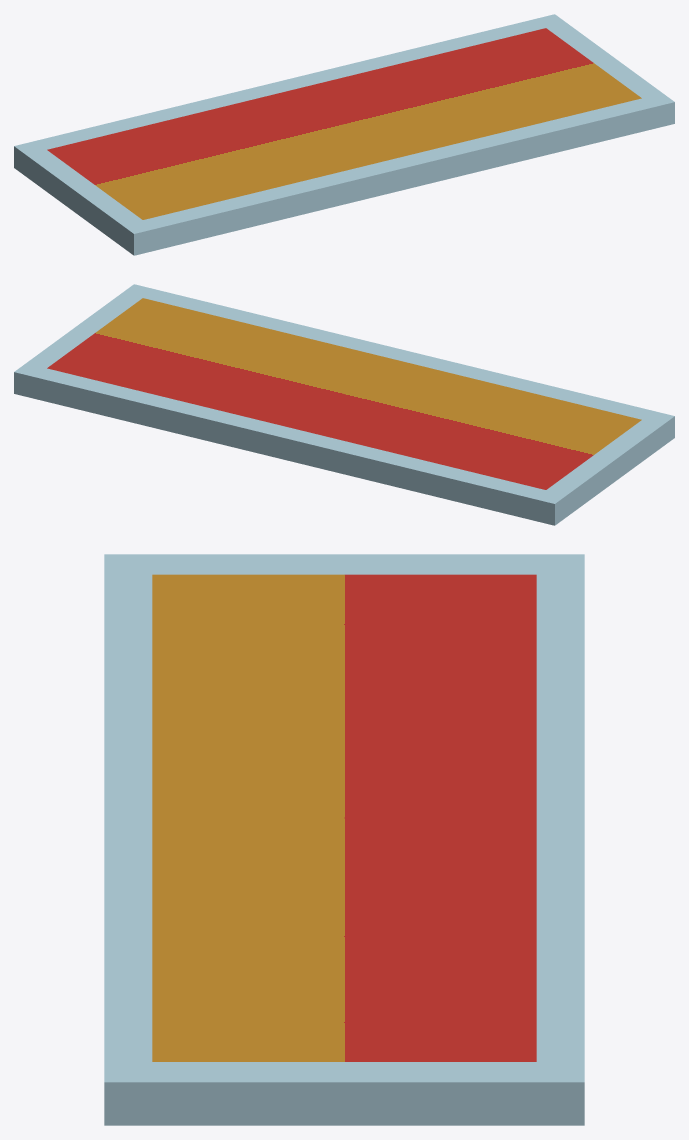
File: Speedboost 1.fbx
3 renders of one model, top to bottom at view 1: azimuth 30°, elevation 25°; view 2: azimuth 150°, elevation 25°; view 3: azimuth 270°, elevation 25°, orthographic. The views are drawn at different scales.
Visible parts, largest first — view 1: cube; view 2: cube; view 3: cube.
Part boxes in pixels (bbox=[...]): cube: bbox=[14, 14, 674, 255]; cube: bbox=[14, 284, 674, 525]; cube: bbox=[104, 554, 584, 1125].
Bounding box in the file's own units: 325 × 12.5 × 125.
Materials: 2 (2 with a texture image).
